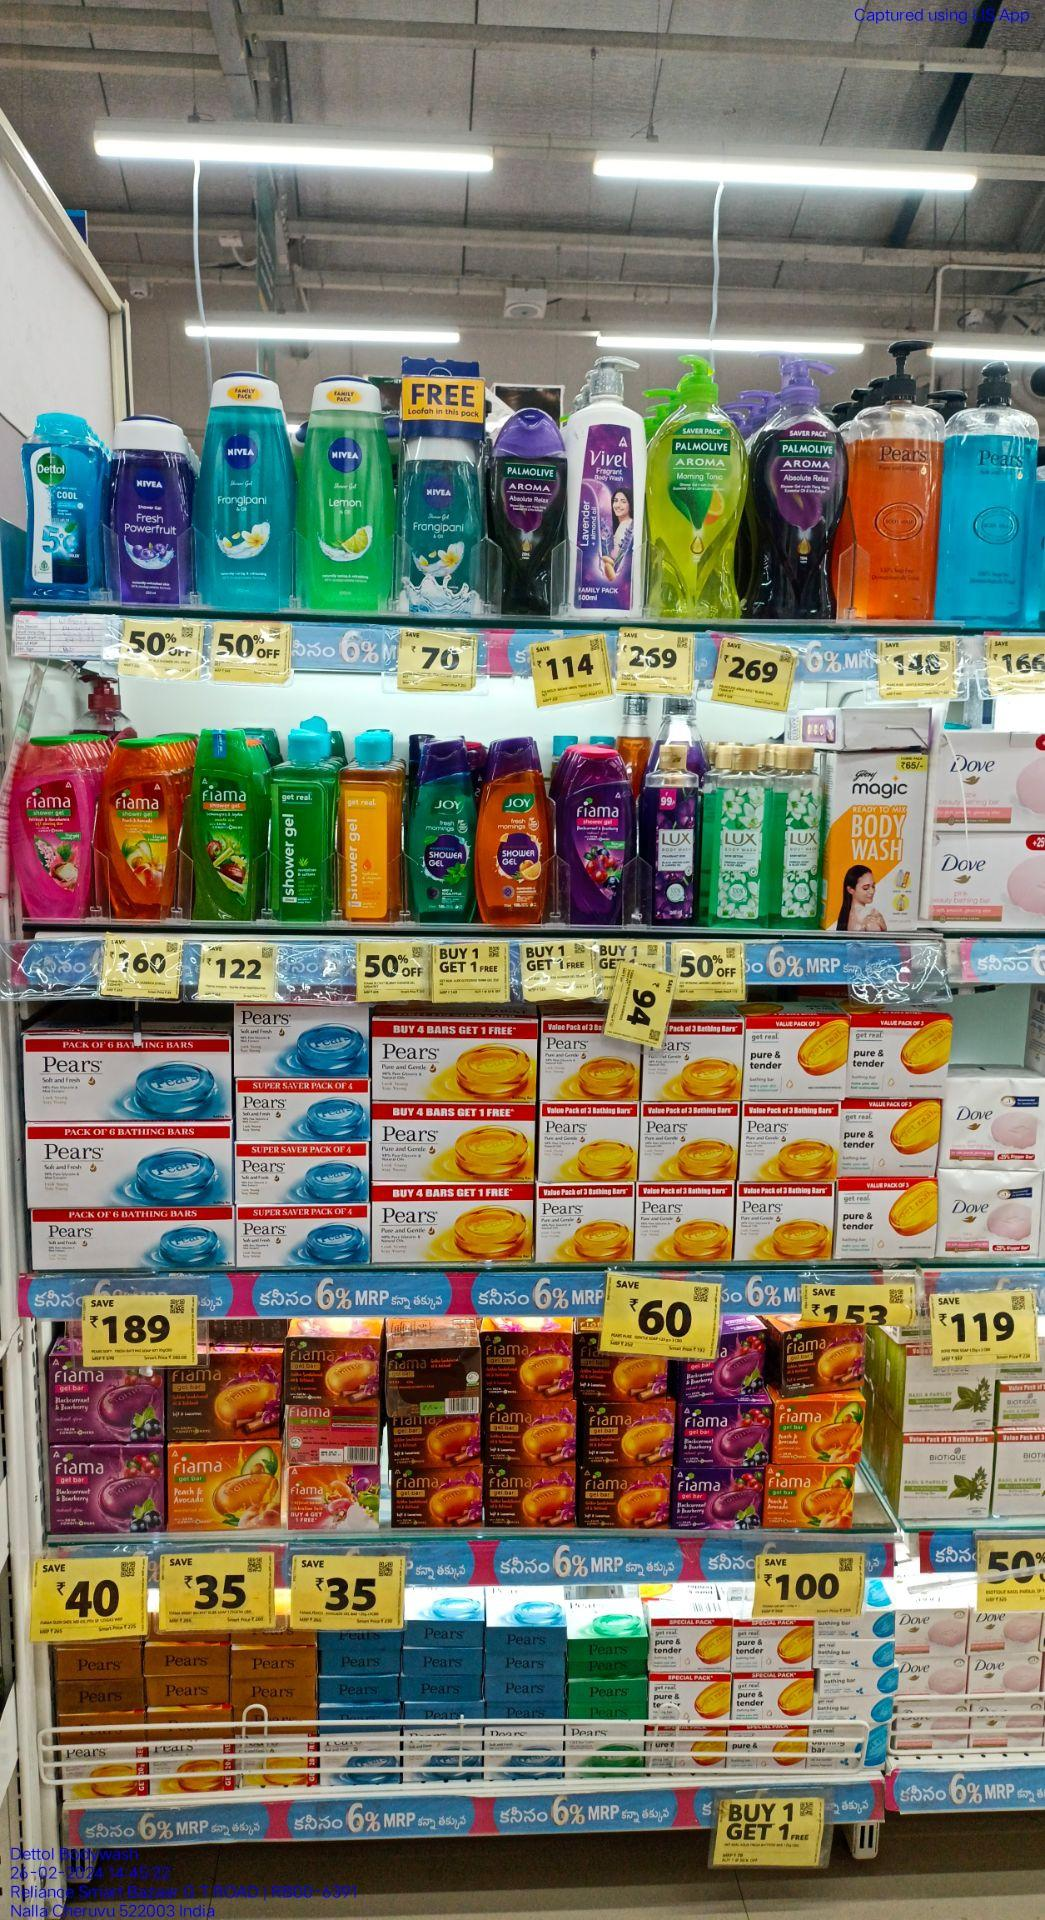Dettol_Bodywash_Cool: (21, 405, 103, 597)
Fiama_Shower_Gel_Lemongrass_and_Jojoba_250ML: (187, 722, 264, 920)
Fiama_Shower_Gel_Patchouli_and_Macadamia_250ML: (9, 730, 88, 919)
Fiama_Shower_Gel_Peach_and_Avocado_250ML: (95, 736, 179, 918)
Lux_Black_Orchid_Scent_and_Juniper_Oil_Body_Wash_245ML: (641, 741, 700, 928)
Lux_Body_Wash_Skin_Detox_Freesia_Scent_and_Alove_Vera_245ML: (704, 740, 766, 933), (770, 741, 824, 930)
Nivea_Shower_Gel_Frangipani_and_Oil_250ML: (193, 368, 296, 614), (396, 420, 489, 618)
Nivea_Shower_Gel_Fresh_Powerfruit_250ML: (106, 413, 187, 602)
Nivea_Shower_Gel_Lemon_and_Oil_250ML: (295, 372, 395, 614)
Palmolive_Aroma_Relax_250ML: (490, 408, 569, 618)
